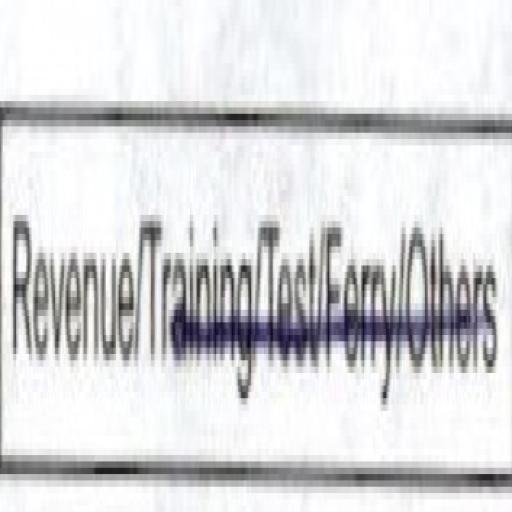check: (11, 97, 137, 512)
